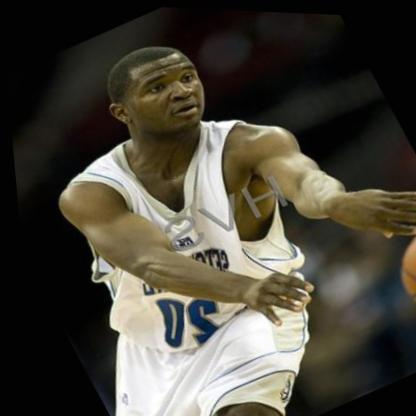basketball: (373, 205, 416, 333)
